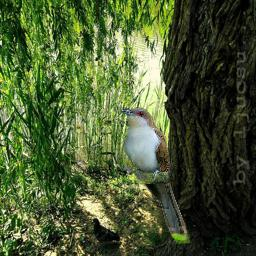Cuckoo: (120, 107, 190, 244)
